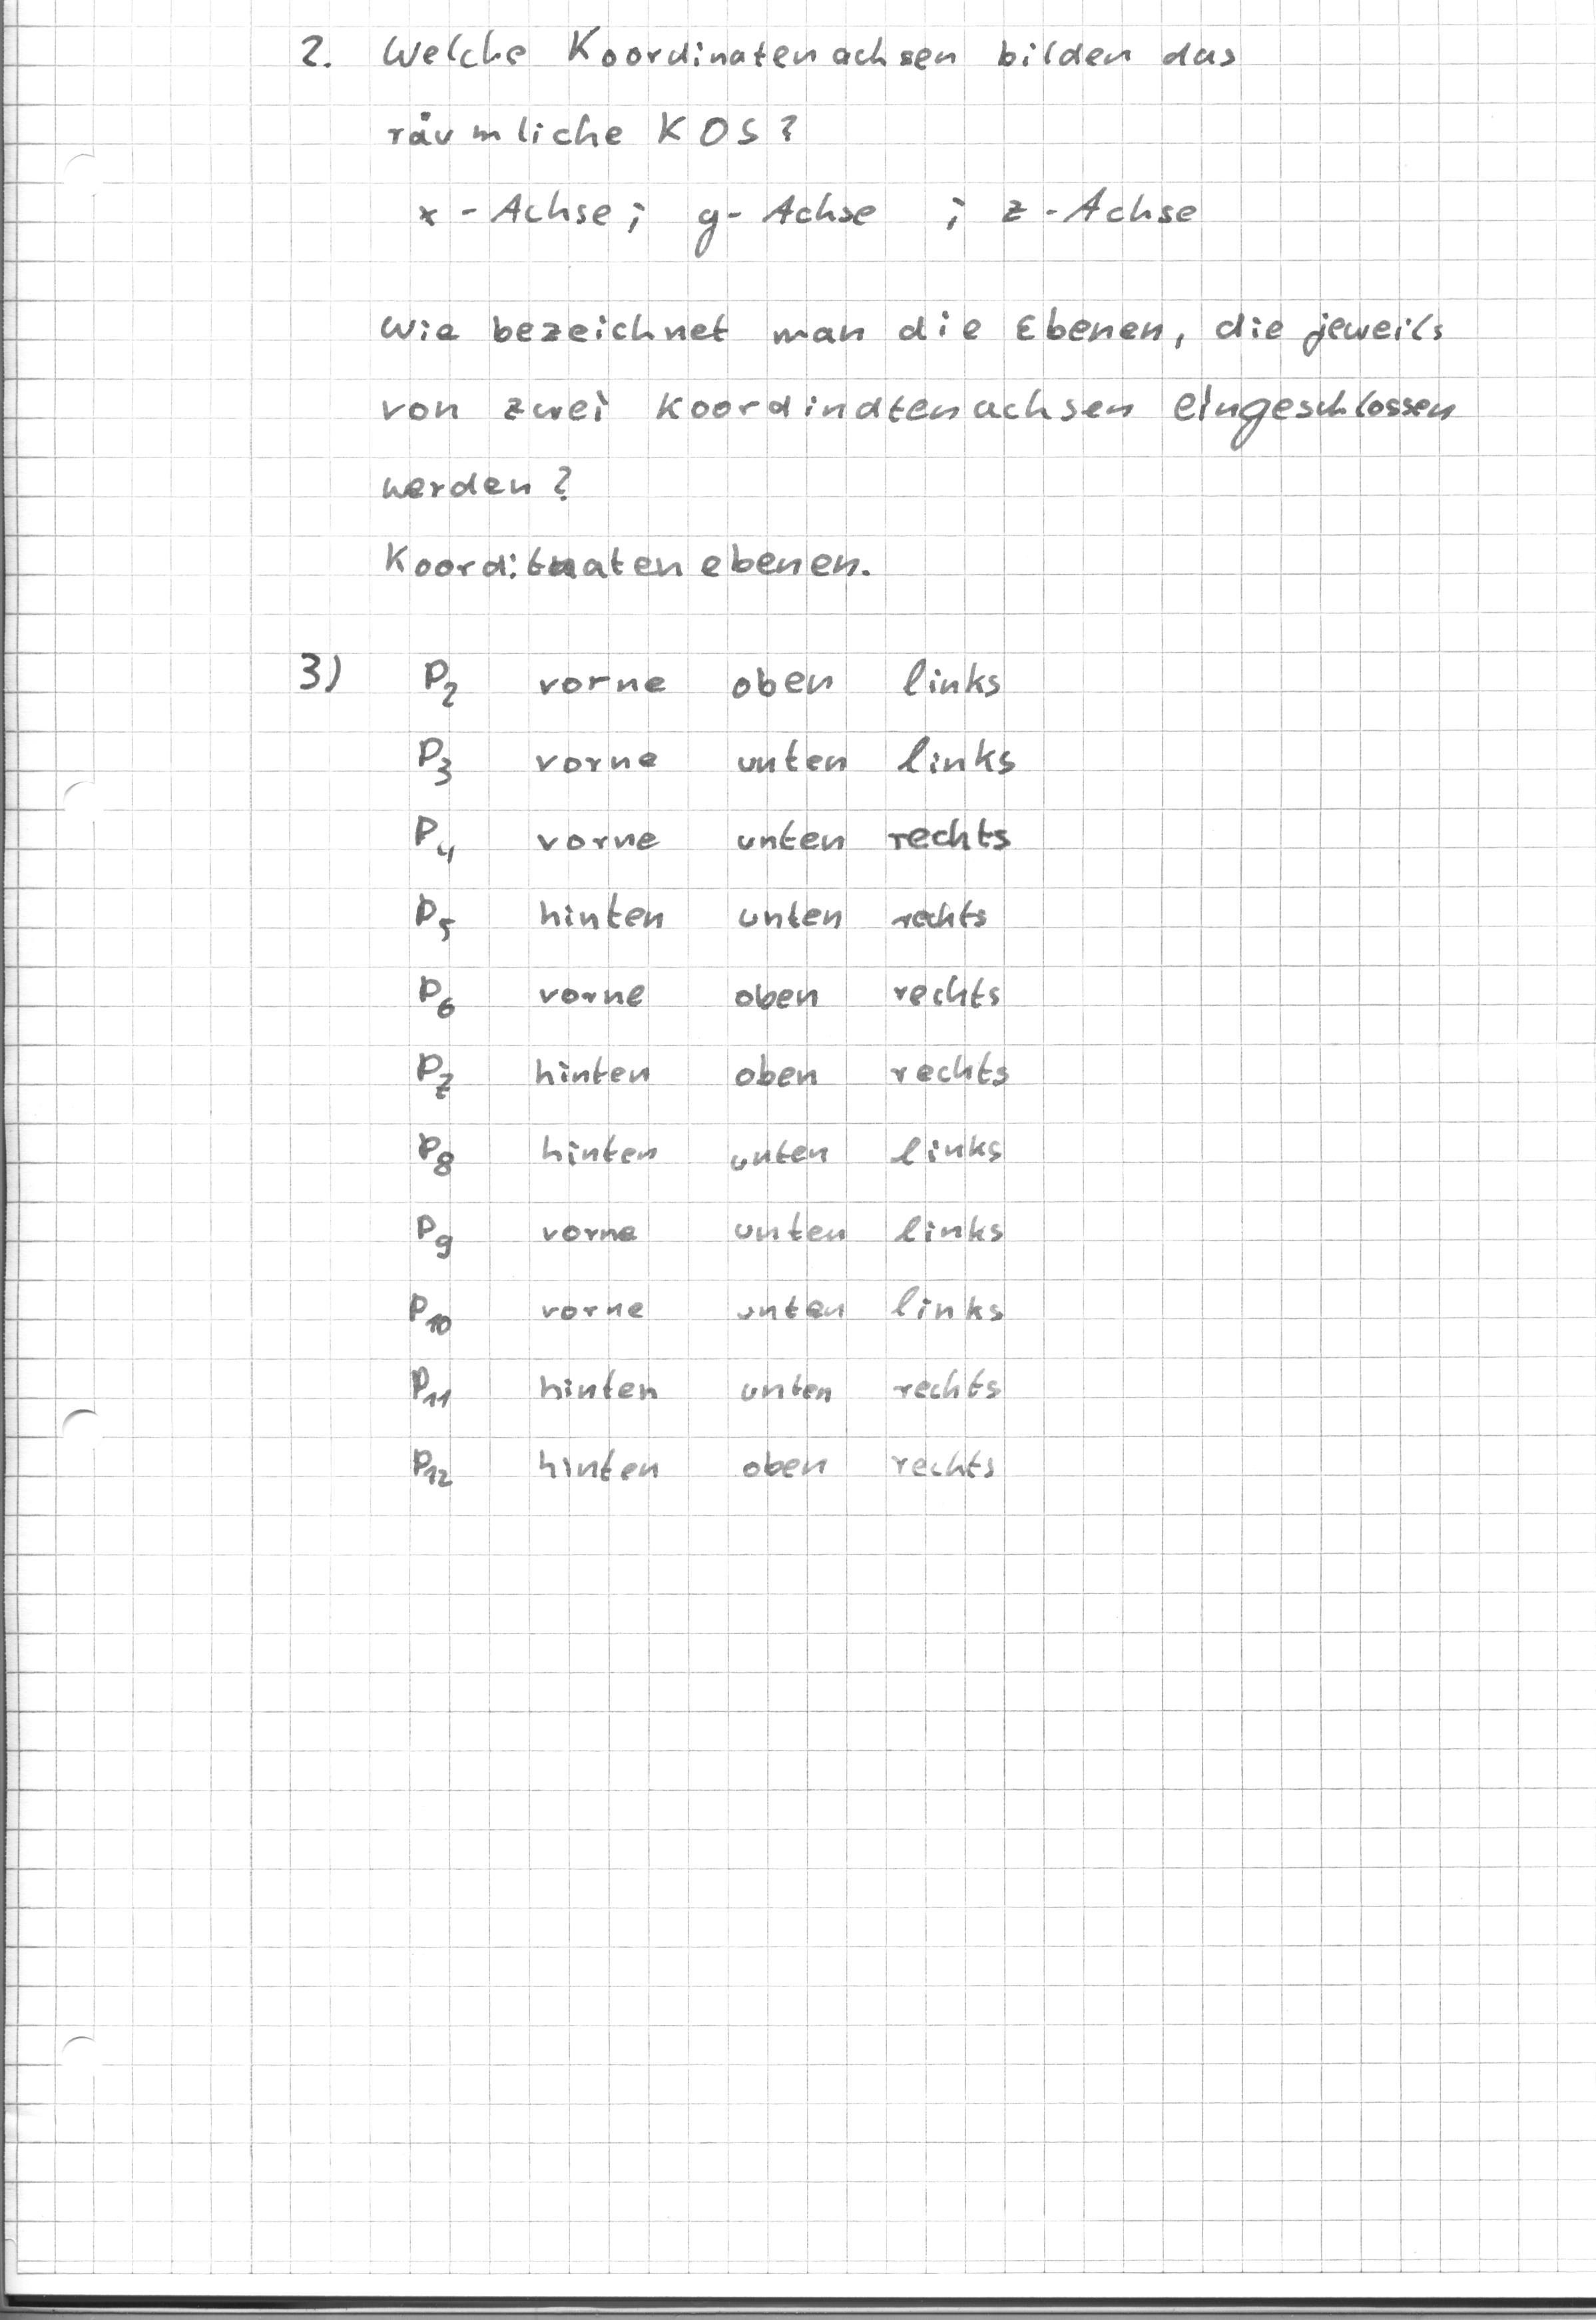word: (360, 295, 1469, 507), (374, 23, 1250, 155), (403, 648, 1023, 798), (405, 965, 1021, 1111), (396, 1283, 1022, 1424), (408, 806, 1015, 948), (405, 169, 1208, 274), (405, 1122, 1009, 1257), (407, 1428, 1005, 1508), (376, 525, 882, 602)
